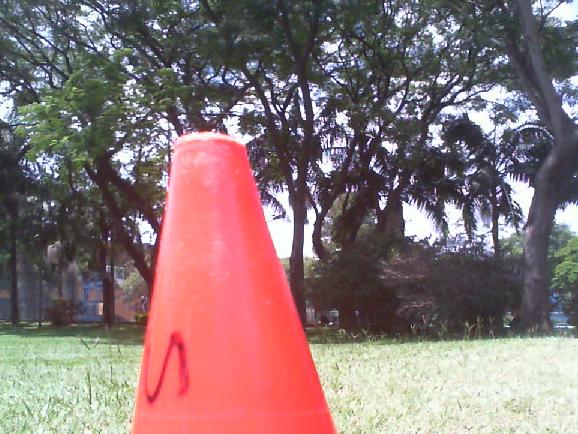0 cone: (125, 132, 349, 434)
